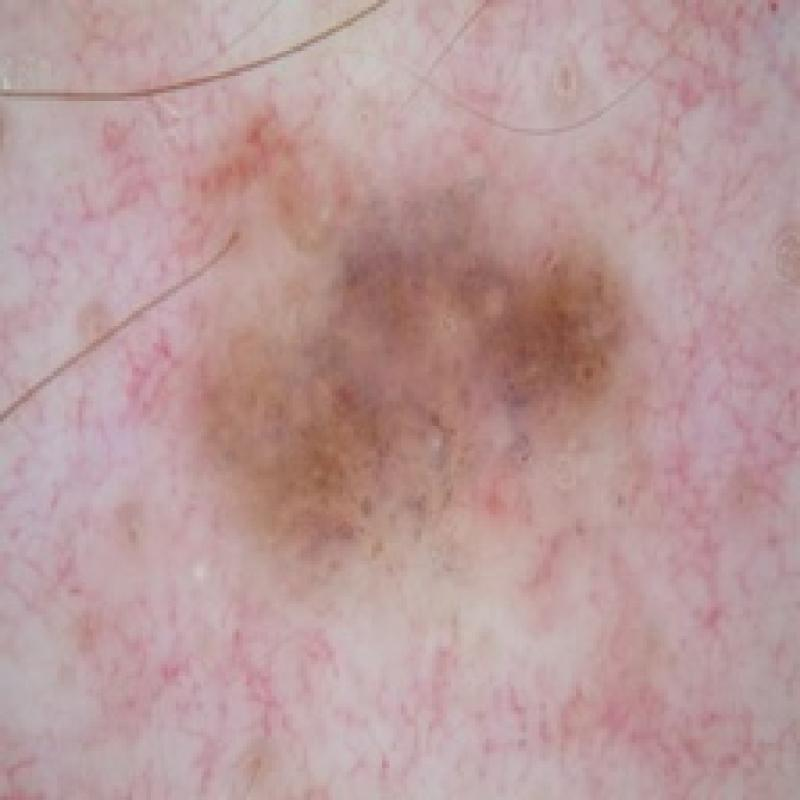malignant: (109, 91, 651, 564)
